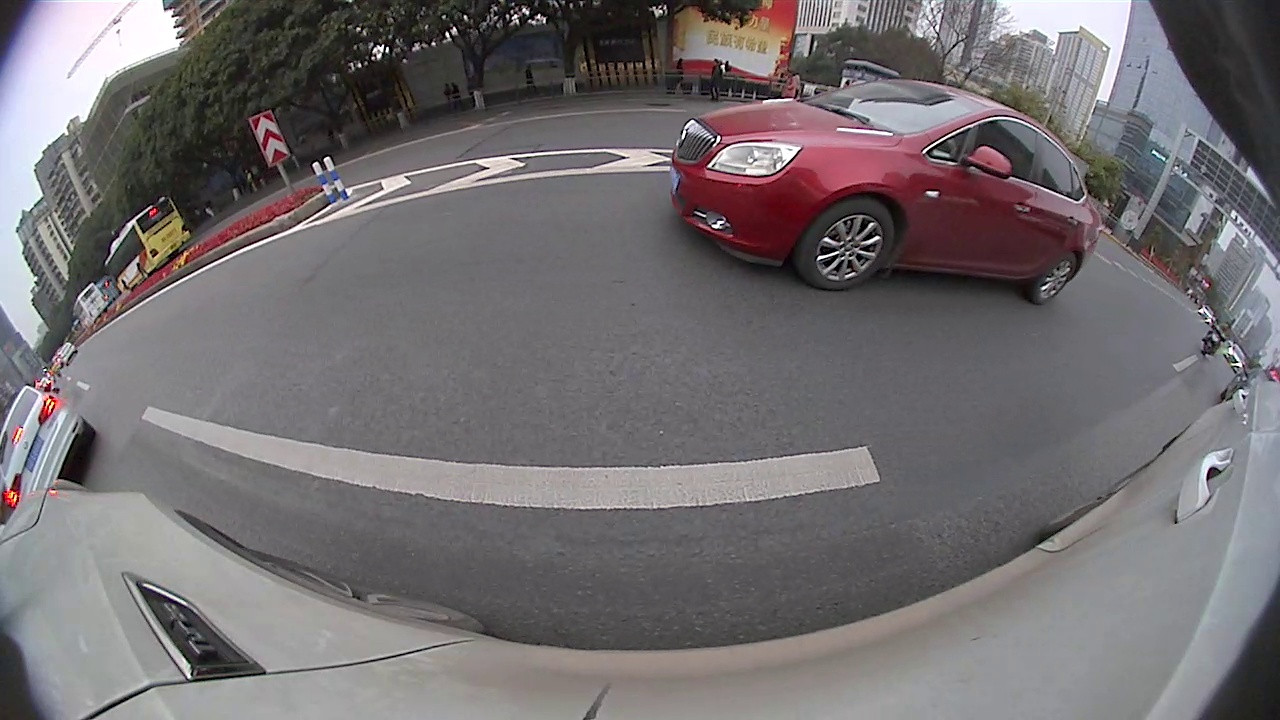bus: (100, 193, 193, 294), (68, 280, 110, 328)
car: (666, 77, 1104, 305), (1, 379, 97, 505)
front: (797, 197, 897, 293)
person: (712, 58, 723, 101), (786, 69, 799, 96)
rear: (1033, 254, 1075, 303)
rider: (1202, 310, 1231, 356)
